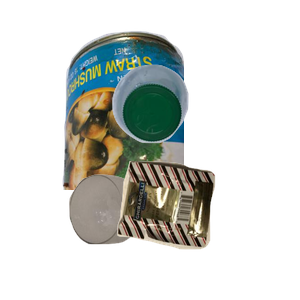glass: (67, 172, 229, 300)
metal: (60, 28, 300, 208)
plastic: (110, 62, 300, 198)
trash: (115, 158, 300, 300)
